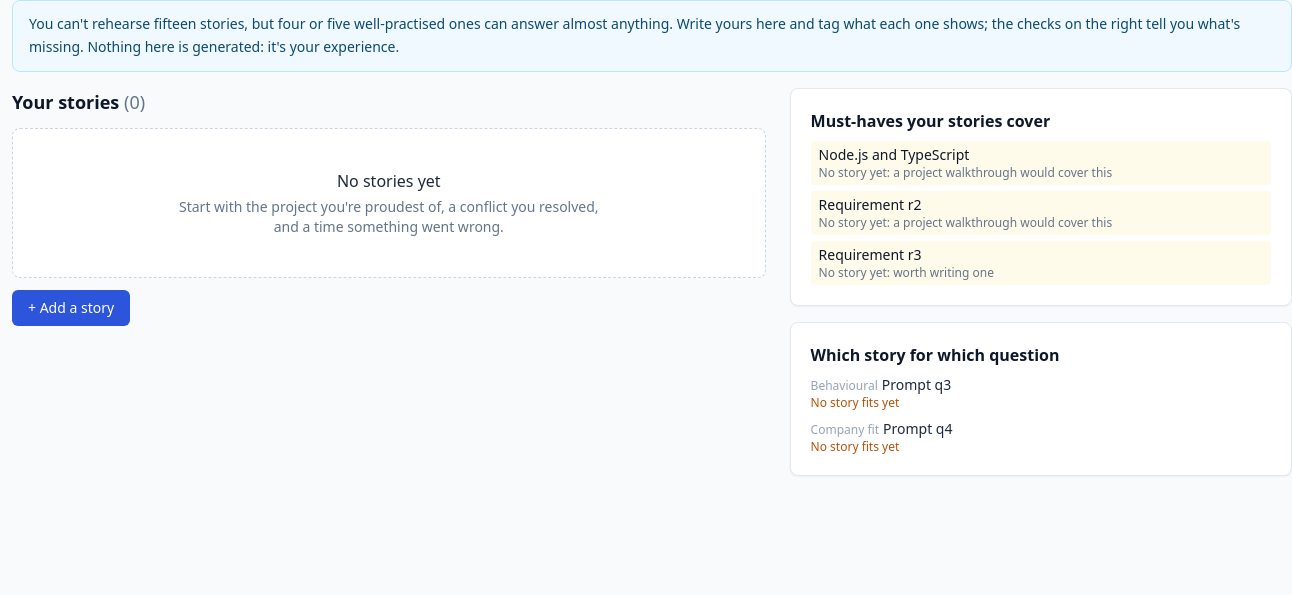
Test: component branches › StoryBank shows "Saving…" while the request is in flight
Click the button "+ Add a story".
click(71, 308)  # box [12, 290, 130, 326]
Wait 700 ms
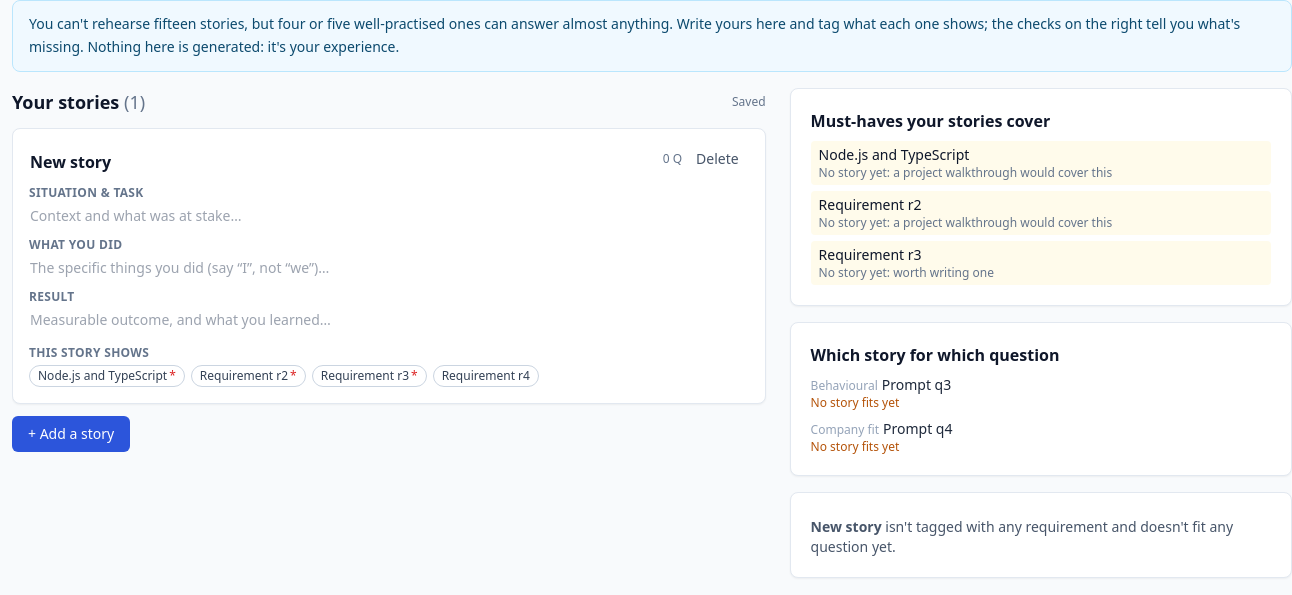
expect the text "Saved" is shown: met, box [732, 94, 766, 110]
